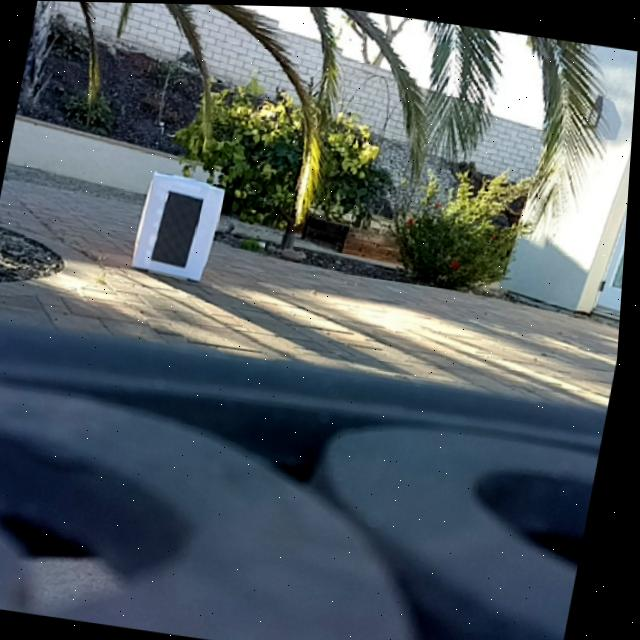led: (153, 188, 207, 269)
